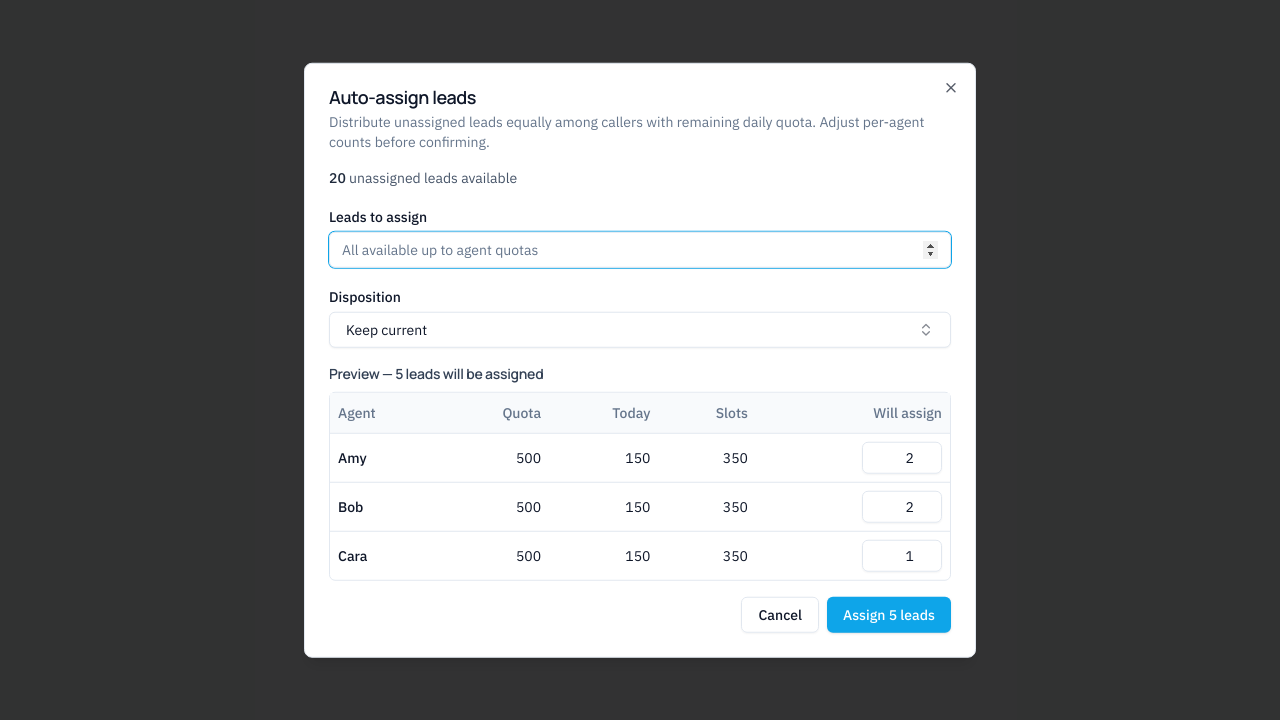
AutoAssignDialog › resets equal defaults when max_leads changes
The width and height of the screenshot is (1280, 720).
Check: the number field with test id "auto-assign-agent-count-a1" is shown, box [862, 441, 942, 473]
Type "3" into the number field with test id "auto-assign-count". click: (640, 250)
box: [329, 232, 951, 268]
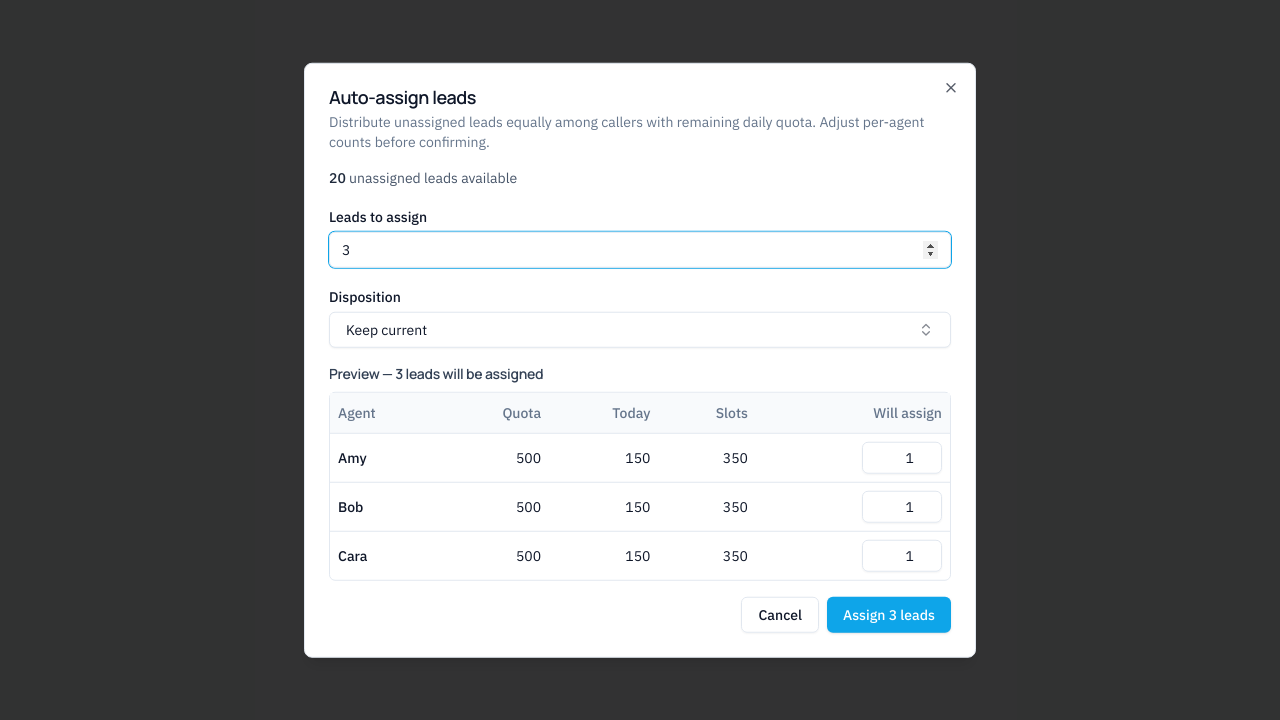
Check: the number field with test id "auto-assign-agent-count-a1" holds "1", box [862, 441, 942, 473]
